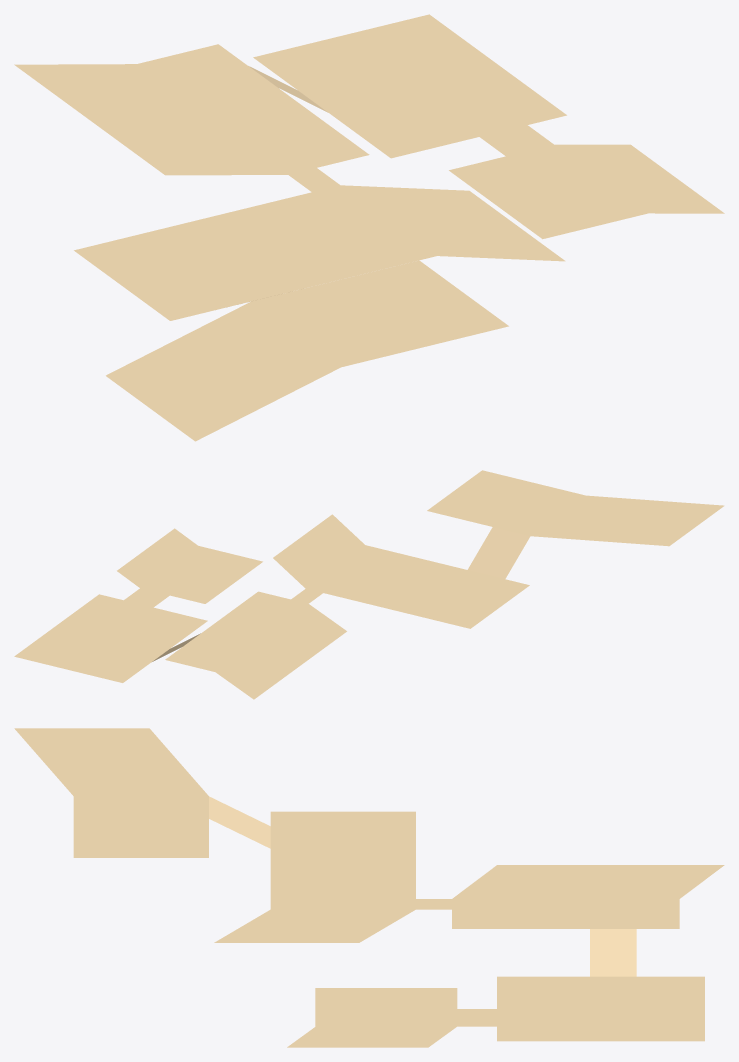
Rendered from ceiling.fbx.
3 renders of one model, top to bottom at view 1: azimuth 30°, elevation 25°; view 2: azimuth 150°, elevation 25°; view 3: azimuth 270°, elevation 25°, orthographic. The views are drawn at different scales.
Parts seen in each view (by area): view 1: Plane.001; view 2: Plane.001; view 3: Plane.001.
Boxes of the visible parts, <box> form: Plane.001: <box>14,14,724,441</box>; Plane.001: <box>14,470,724,699</box>; Plane.001: <box>14,728,724,1047</box>.
Size of the model in its own units: 19183 by 2008 by 22082.
